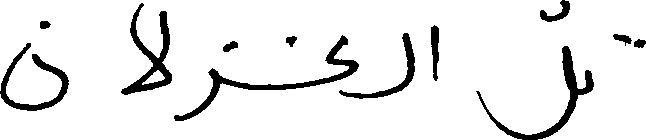ا: (429, 22, 439, 81)
ت: (582, 32, 643, 96)
خ: (286, 33, 357, 99)
ز: (174, 39, 235, 121)
ل: (474, 0, 576, 138), (395, 31, 414, 94)
لا: (120, 1, 169, 95)
ن: (0, 18, 69, 111)
